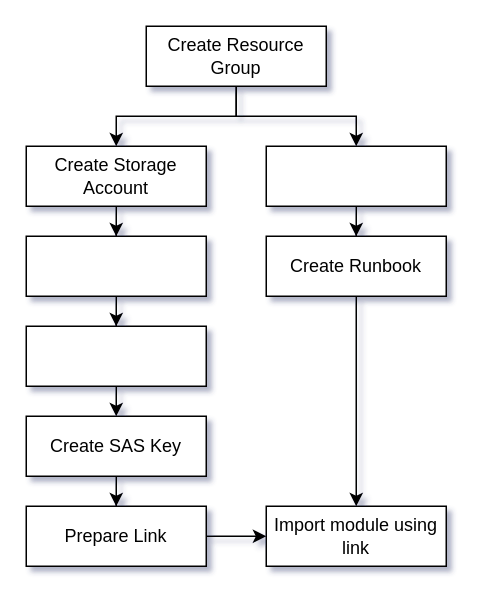
Some shapes in this 482 by 602 pixel diagram are drawn without their labels. Here are the shapes that lost their labels. From the top down, the centre of each, then its label:
At (x=355, y=175): "Create Automation Account".
At (x=115, y=265): "Create Blob Container".
At (x=115, y=355): "Upload file".
